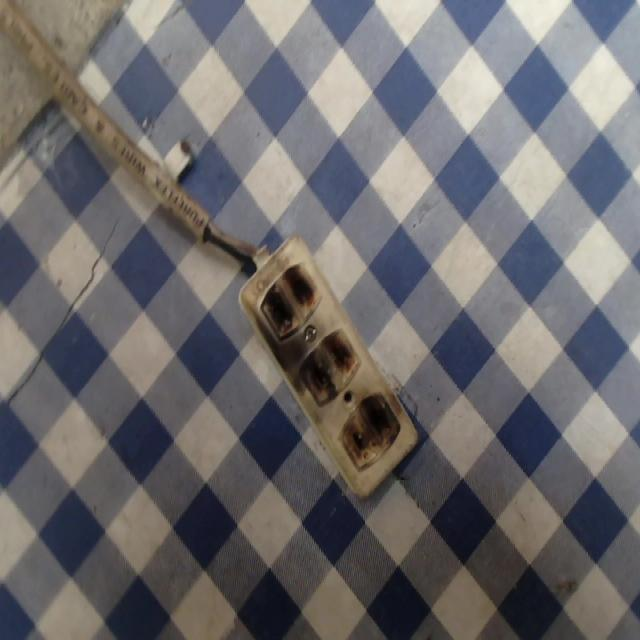-: (337, 392, 403, 472), (295, 324, 360, 405), (256, 259, 321, 337)
